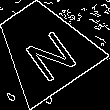N_NW: (12, 15, 76, 80)
